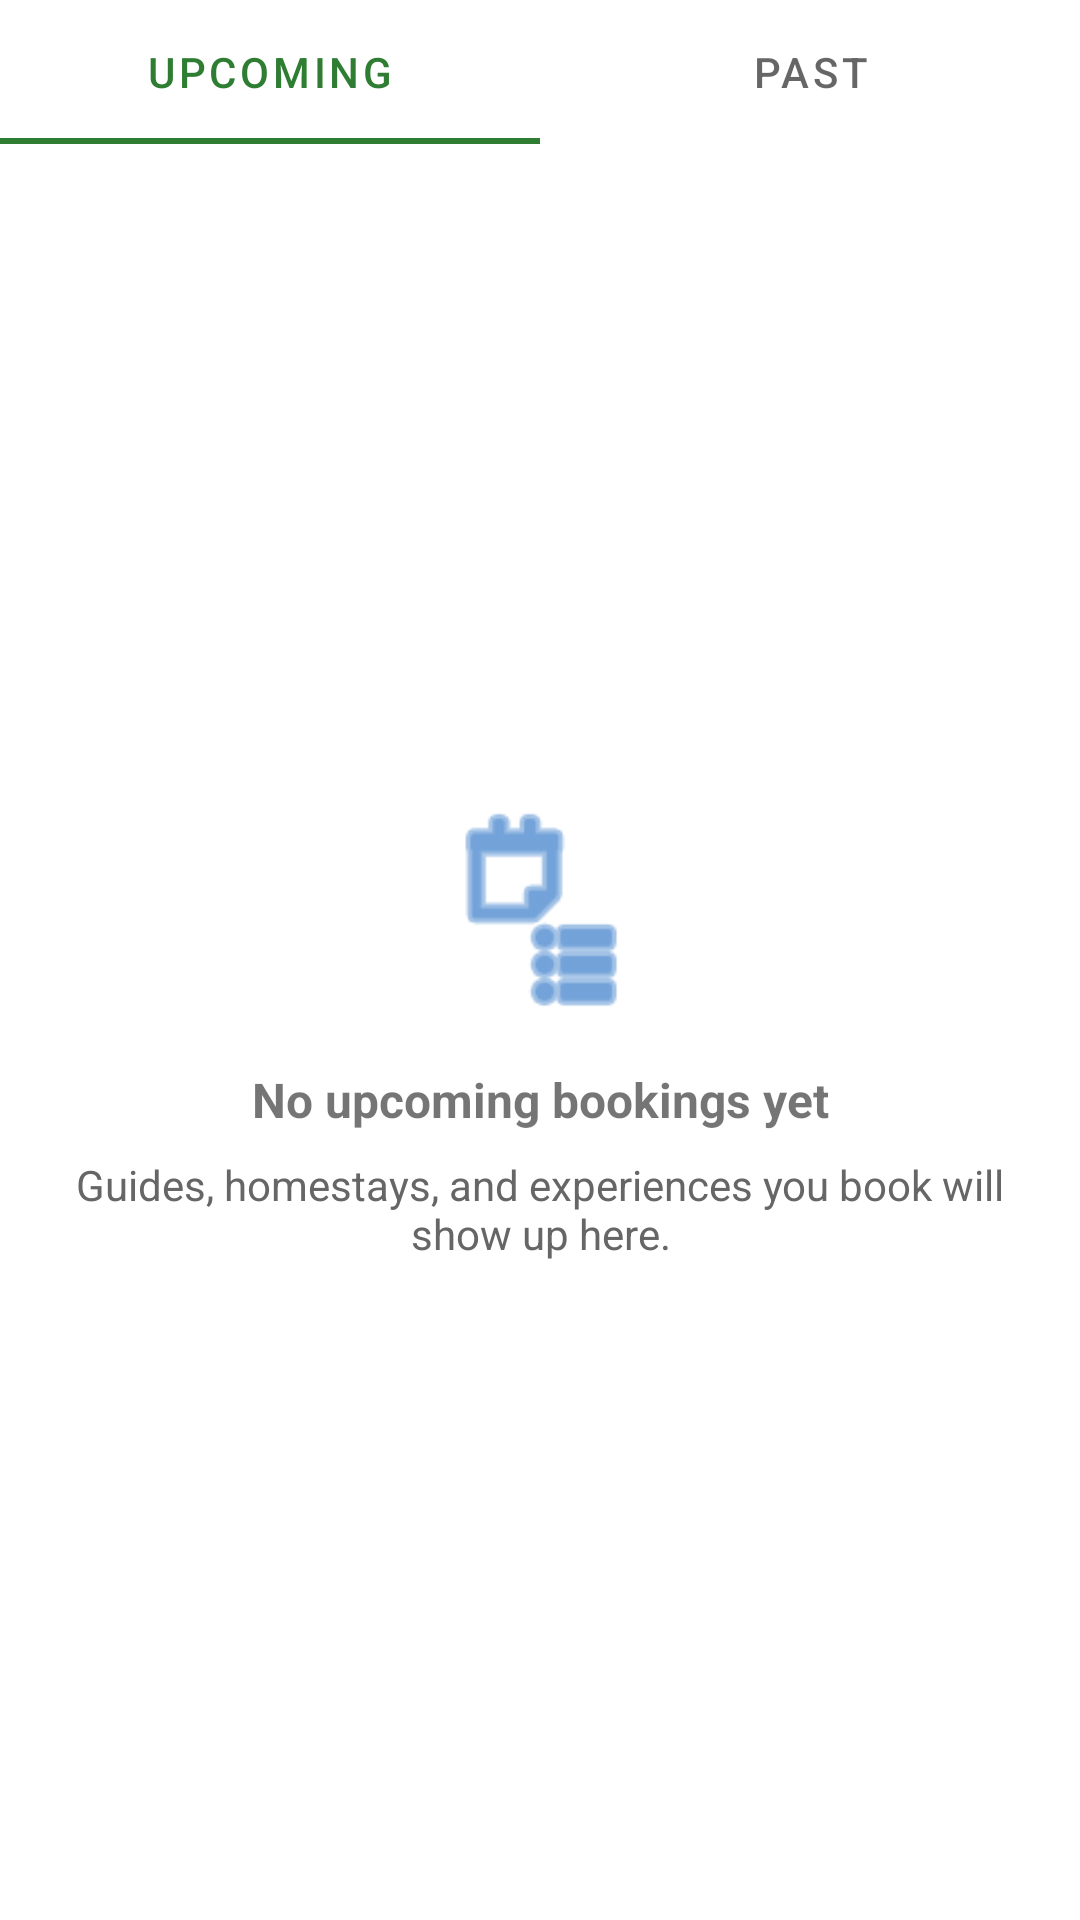

Named icons in this screenshot (1080 x 1920) and their centers, (x=x, y=y):
agenda: (x=541, y=910)
